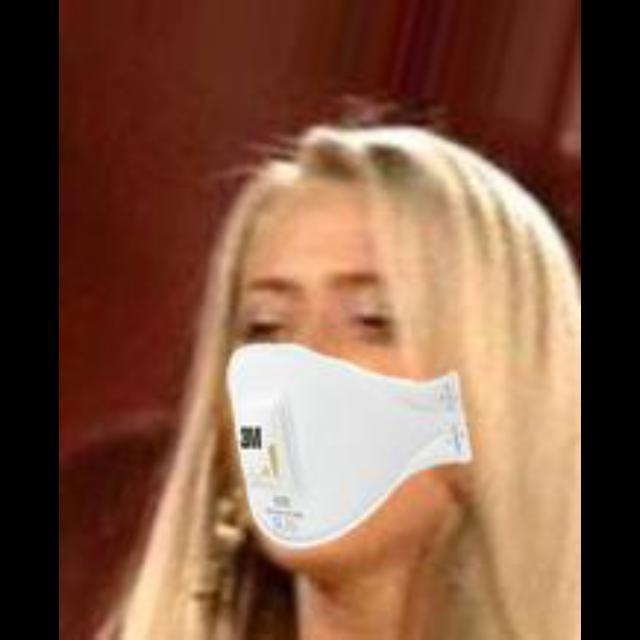suspicion: (214, 140, 550, 590)
